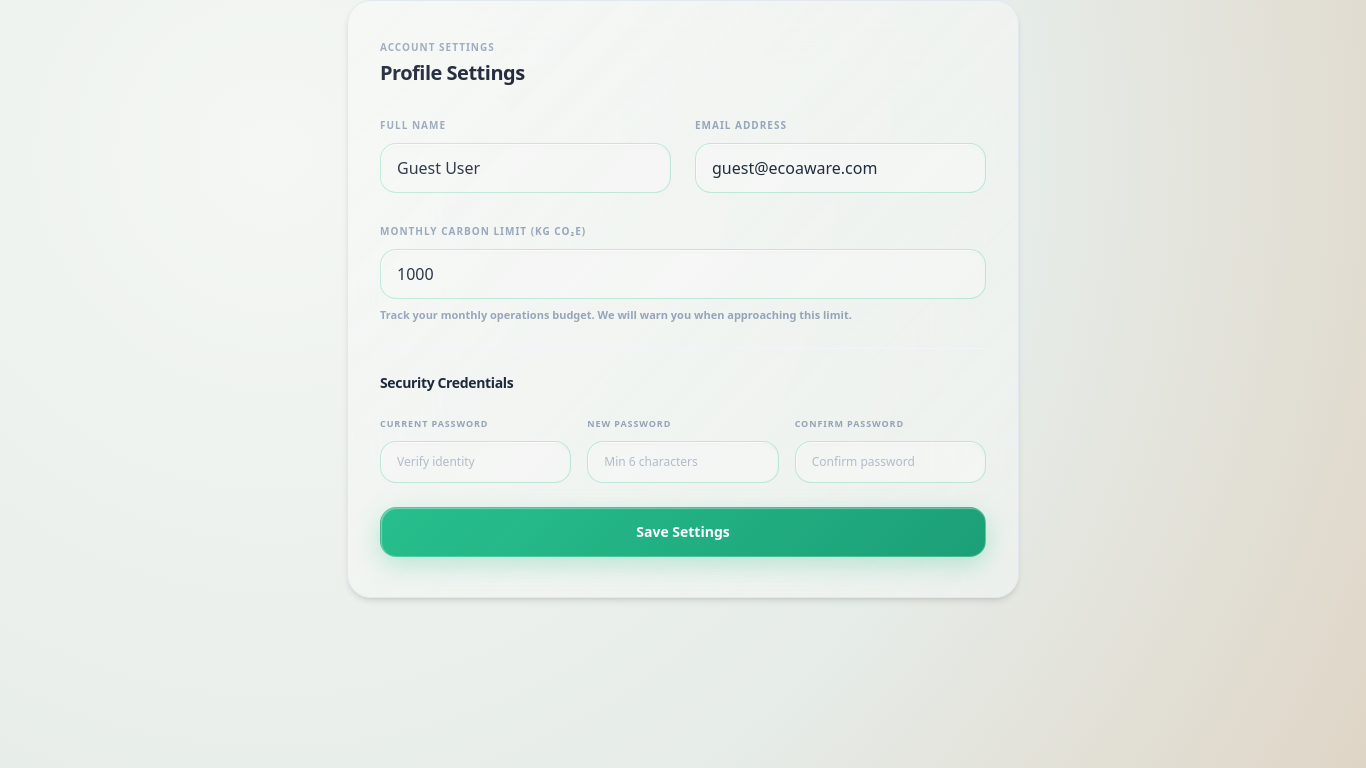
it: SettingsPage Component › submits profile edits and displays success notification
This screenshot has width=1366, height=768.
Replace the text in the field below "Full Name" with "Alex Updated": x=526, y=168 top-left (380, 143), bottom-right (671, 193)
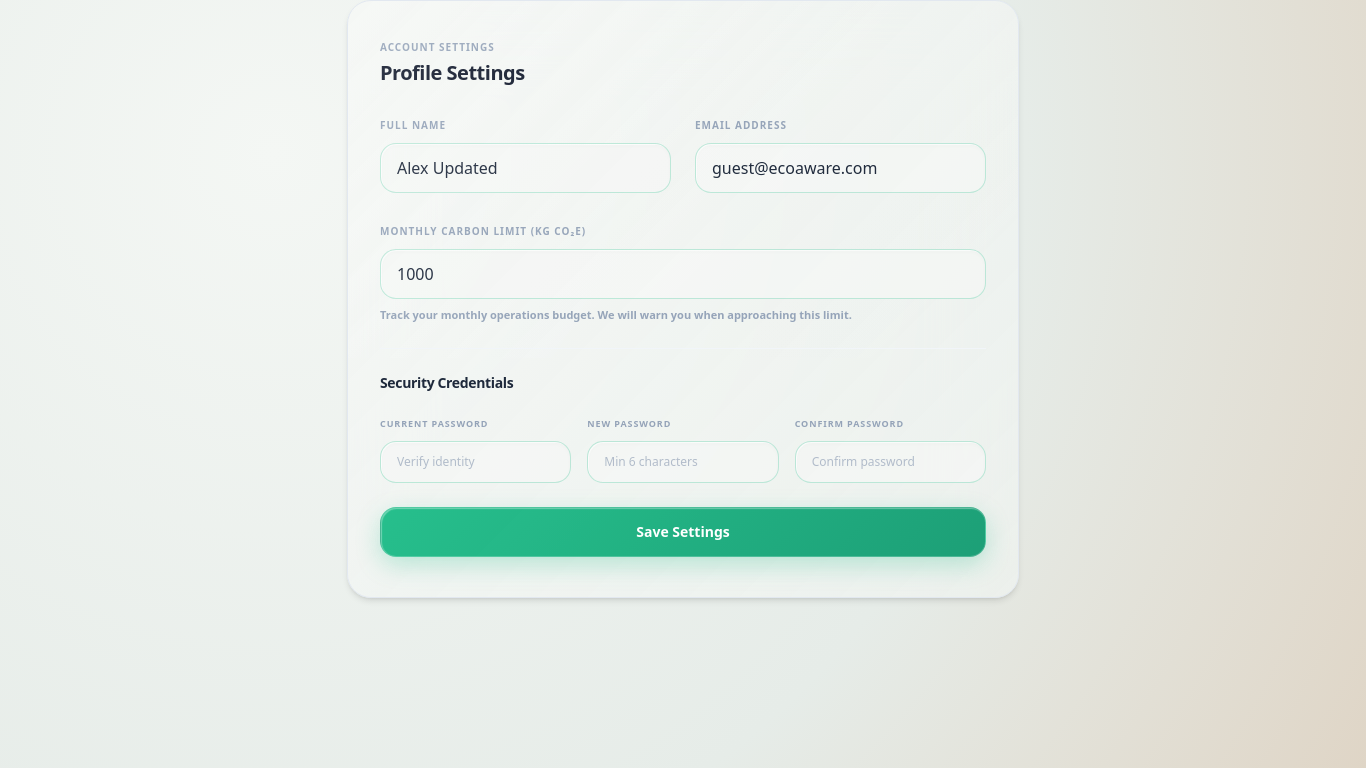
Replace the text in the number field with "800": x=683, y=274 top-left (380, 249), bottom-right (986, 299)
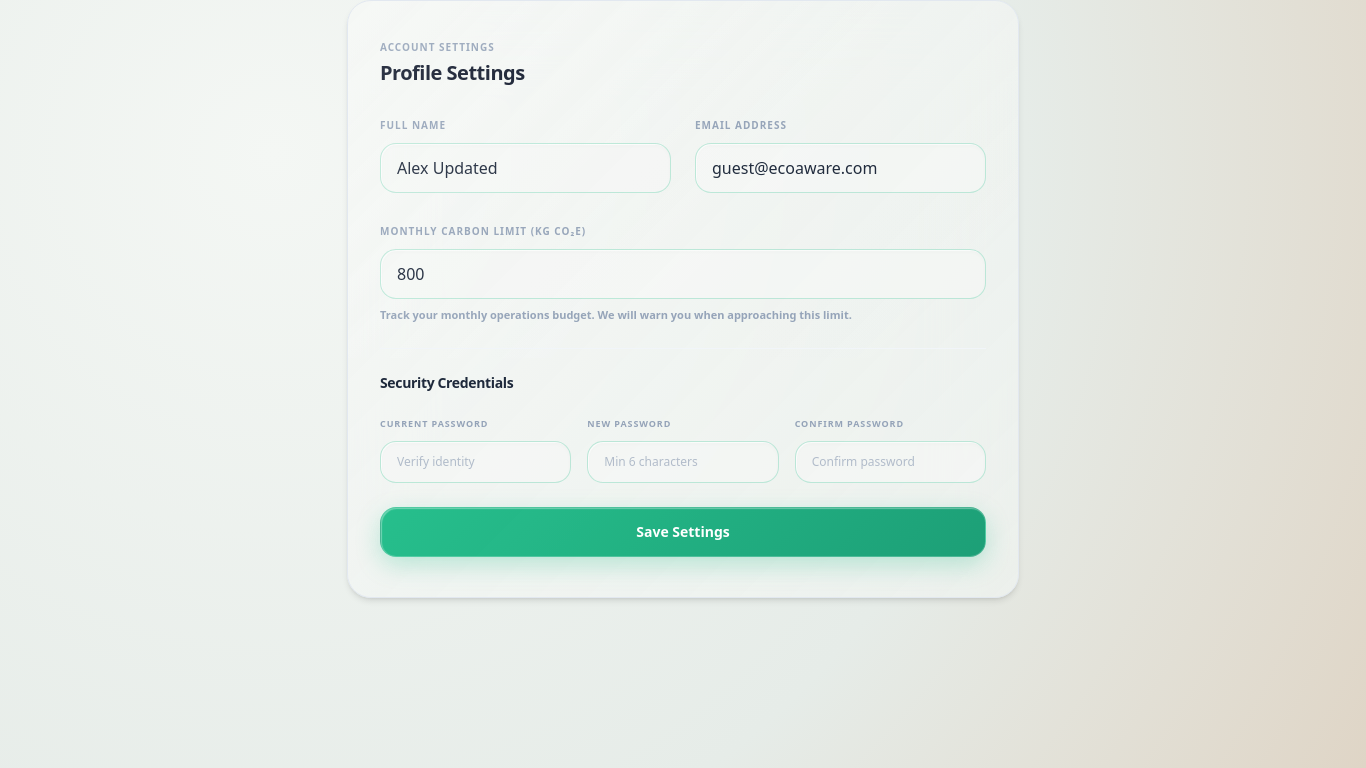
Click the button "Save Settings": x=683, y=532 top-left (380, 506), bottom-right (986, 556)
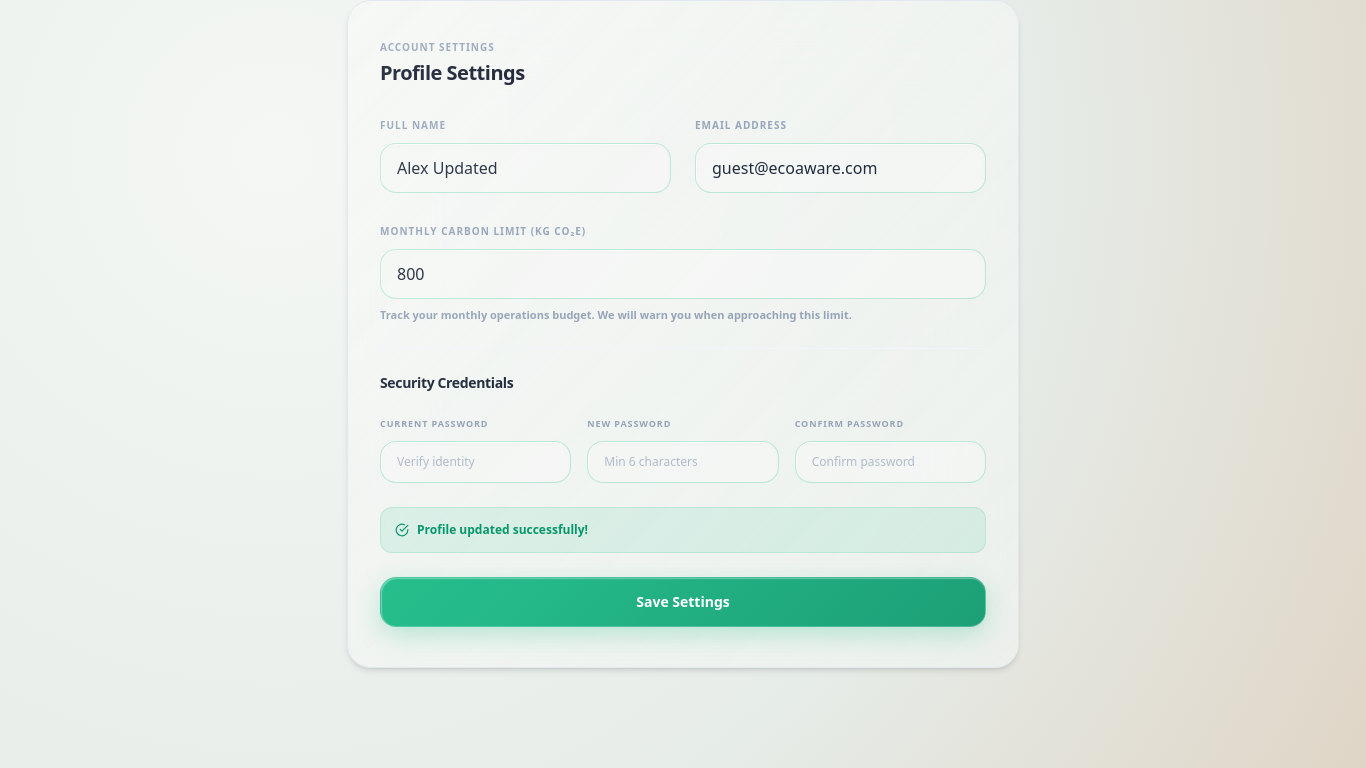
Expected: the text "Profile updated successfully!" is shown, top-left (417, 522), bottom-right (588, 538)
